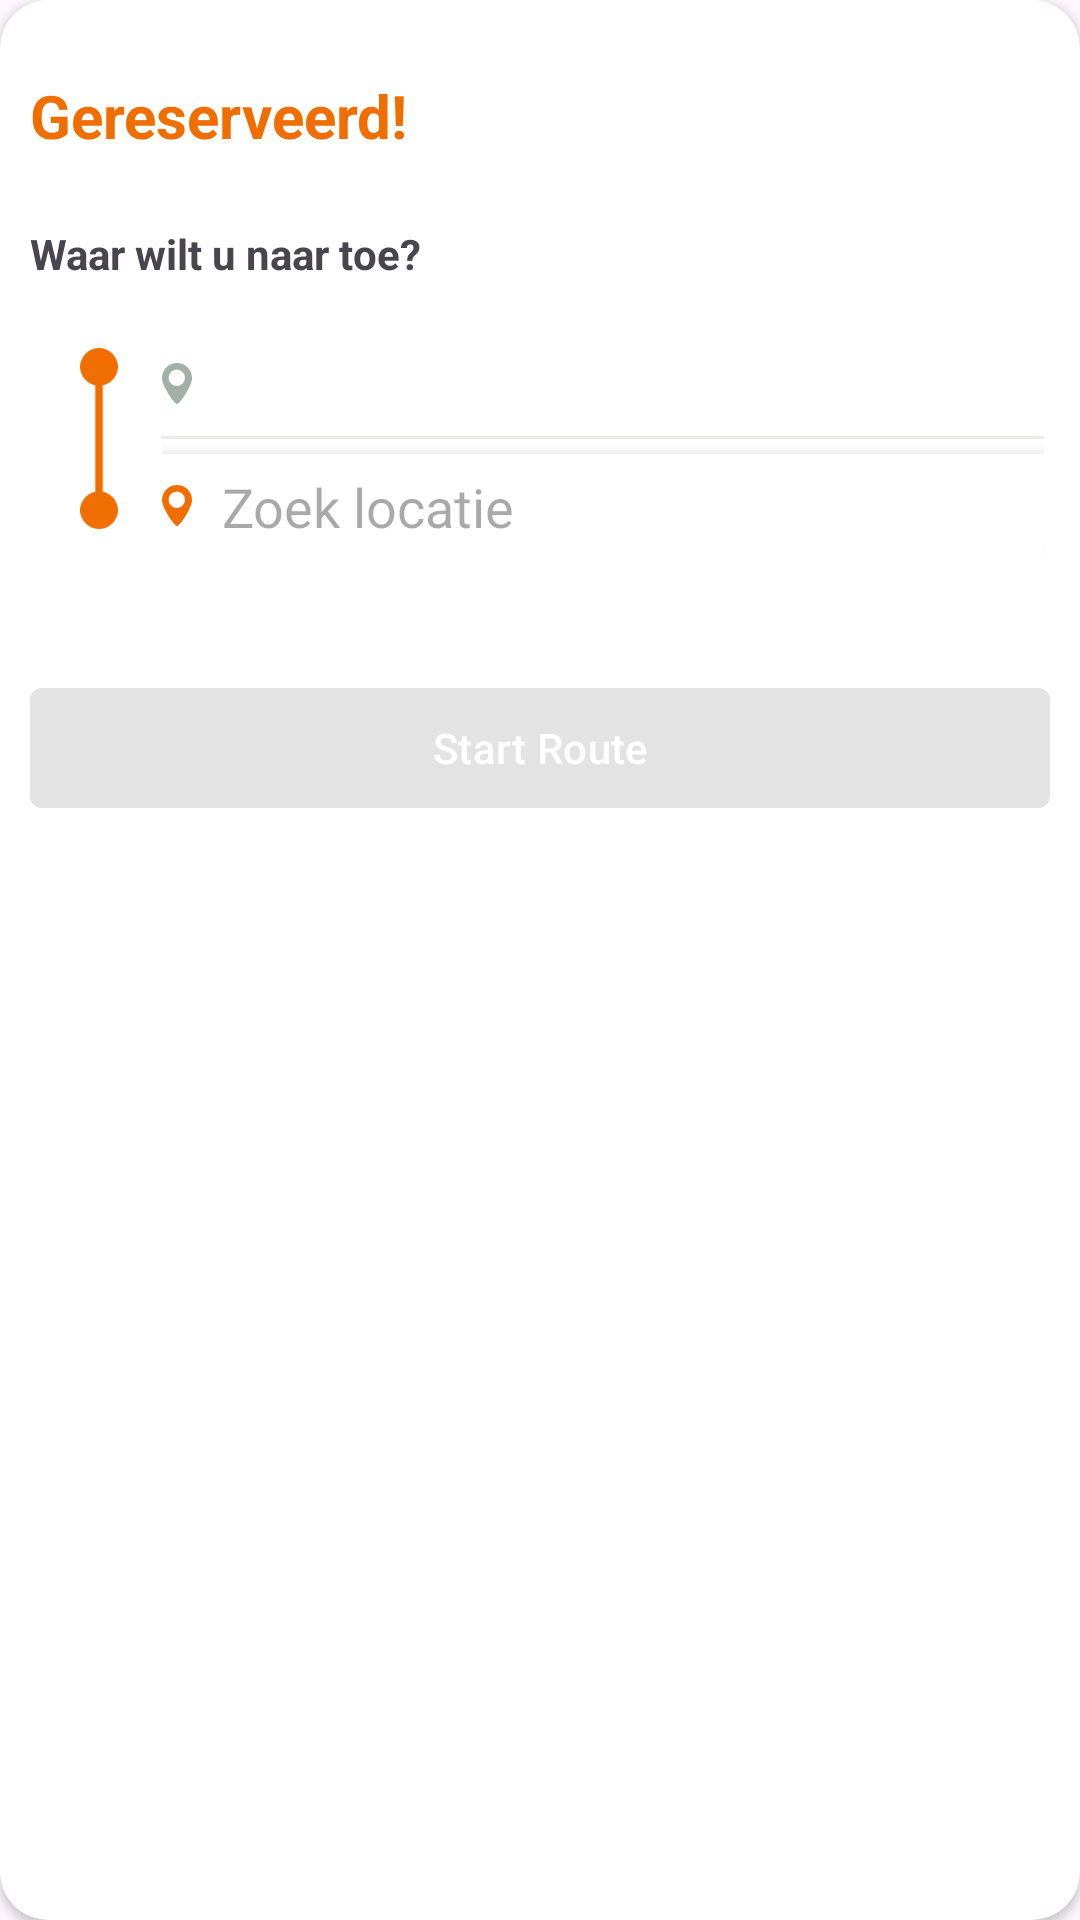

Icons on this 1080×1920 Android screen, each with the point to tap as (x=x, y=y):
fromto: (x=99, y=438)
